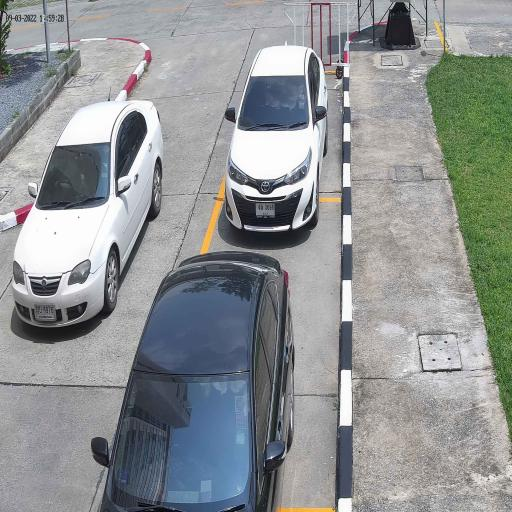car: (99, 248, 296, 512), (10, 98, 165, 332), (224, 41, 330, 234)
